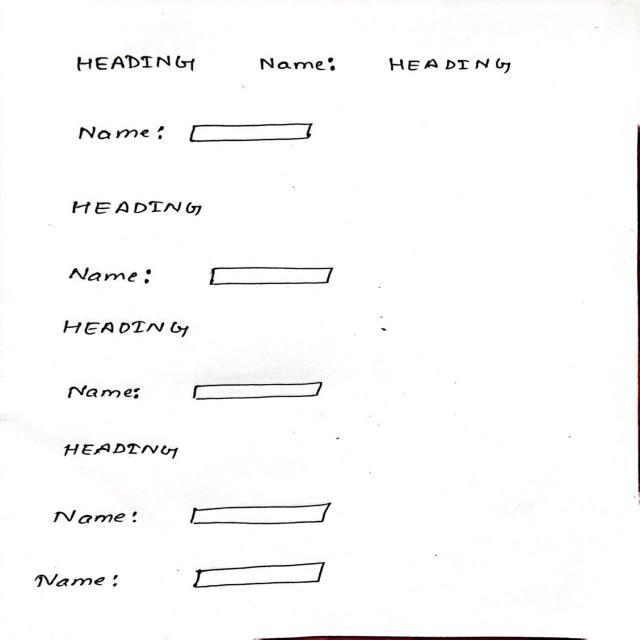textbox: (181, 556, 337, 594), (181, 493, 340, 530), (189, 115, 330, 149), (189, 374, 334, 407), (204, 261, 342, 290)
